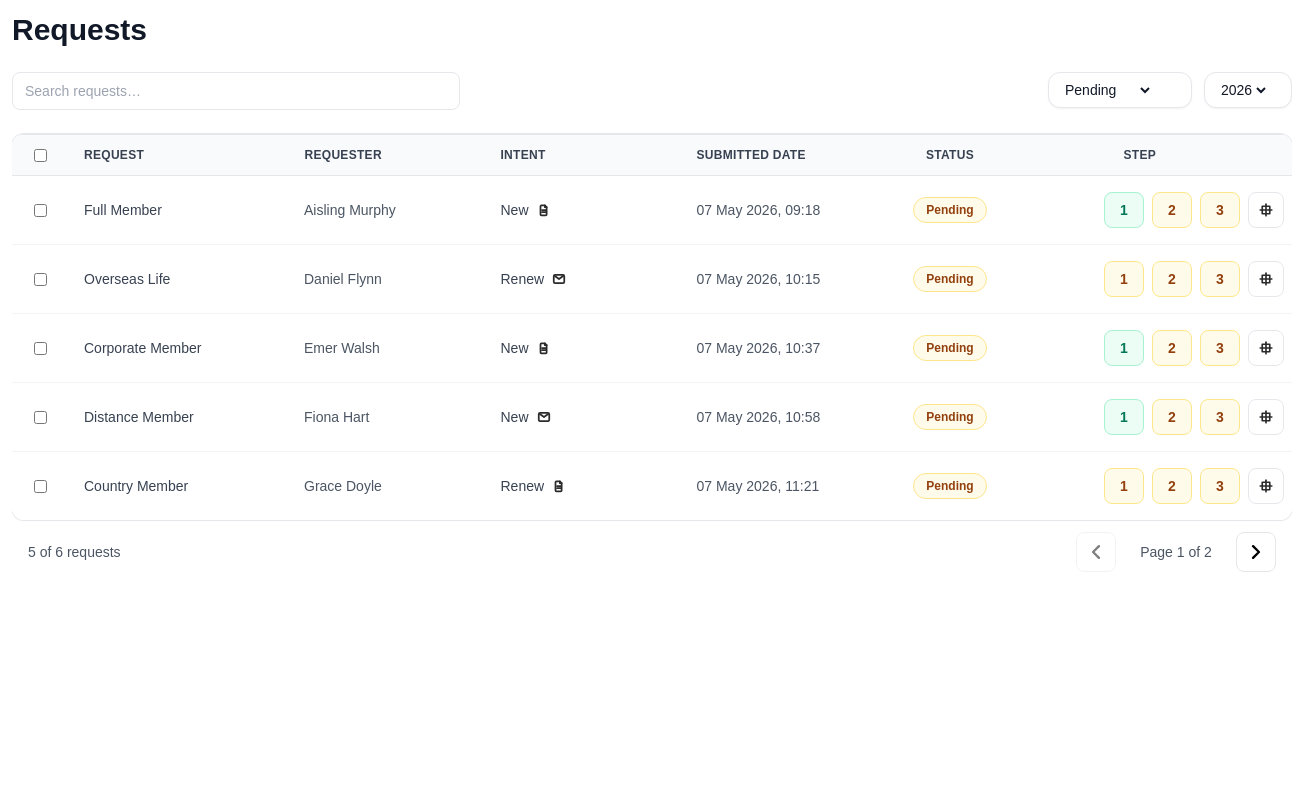
it: RequestsPage › styling › should only show the selection drawer after a request row is selected
This screenshot has width=1292, height=812.
Expected: the text "1 of 6 selected" is not shown
Expected: the button "Complete" is not shown
Click the checkbox named "select request req-1001" at (40, 210), box [34,204,46,216]
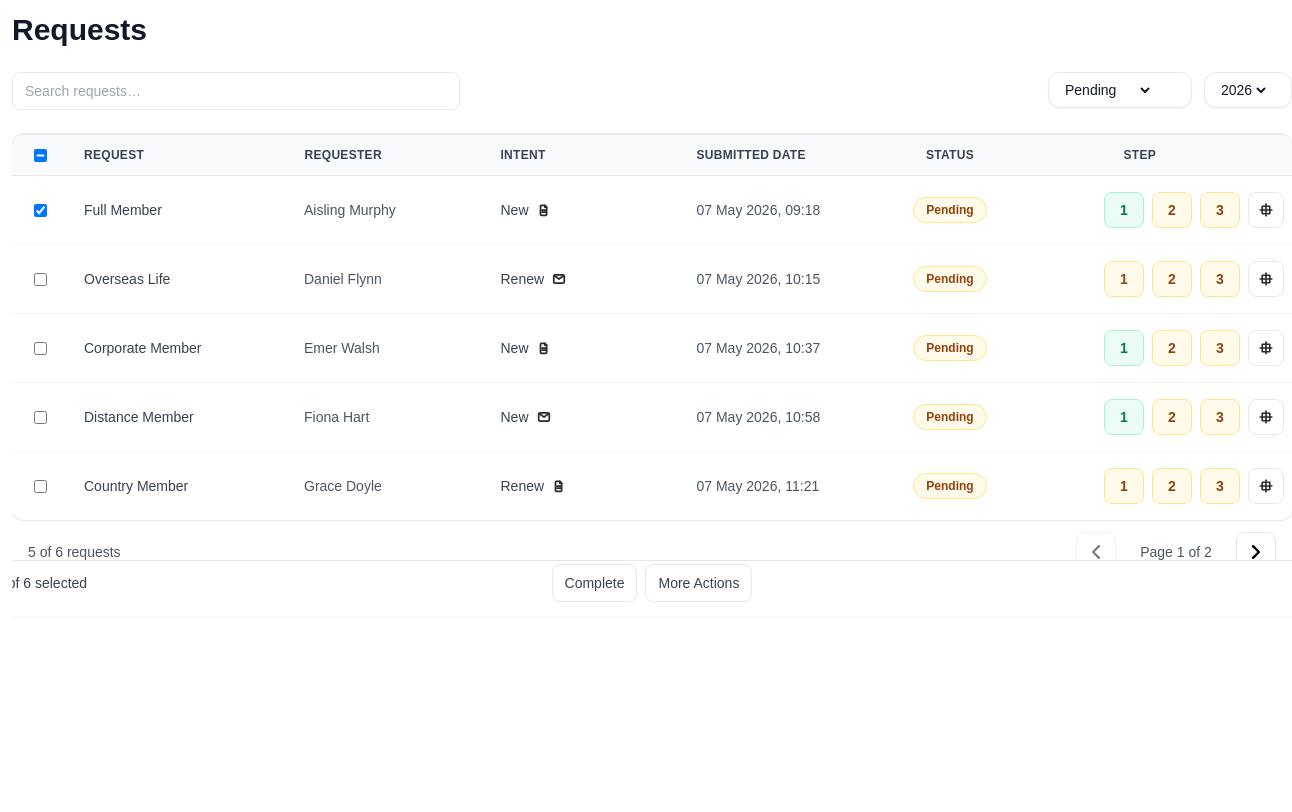
Expected: the button "Complete" is shown, [552,564,638,602]
Expected: the button "More Actions" is shown, [646,564,752,602]
